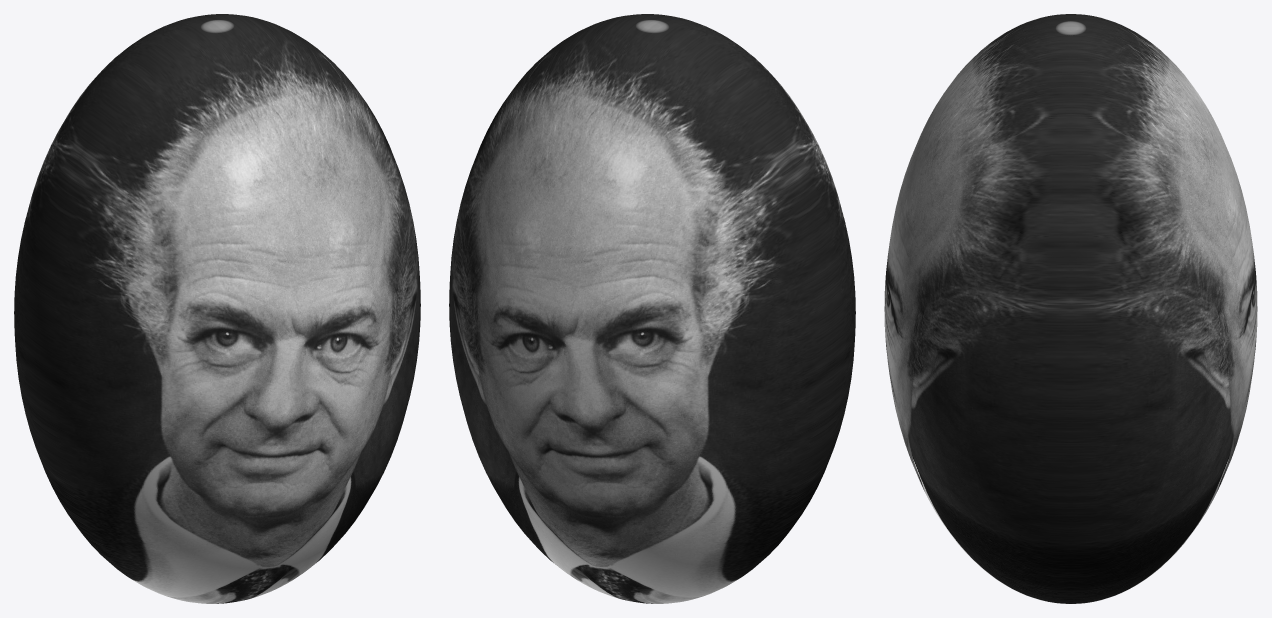
File: linus_pauling.glb
3 views of the same model, side by side, from view 1: azimuth 30°, elevation 25°; view 2: azimuth 150°, elevation 25°; view 3: azimuth 270°, elevation 25° (orthographic).
Parts seen in each view (by area): view 1: head; view 2: head; view 3: head.
Boxes of the visible parts, bbox=[...] form: head: bbox=[14, 14, 420, 603]; head: bbox=[449, 14, 855, 603]; head: bbox=[884, 14, 1257, 603].
Size of the model in its own units: 1.33 by 2 by 1.2.
1 material, 1 textured.
